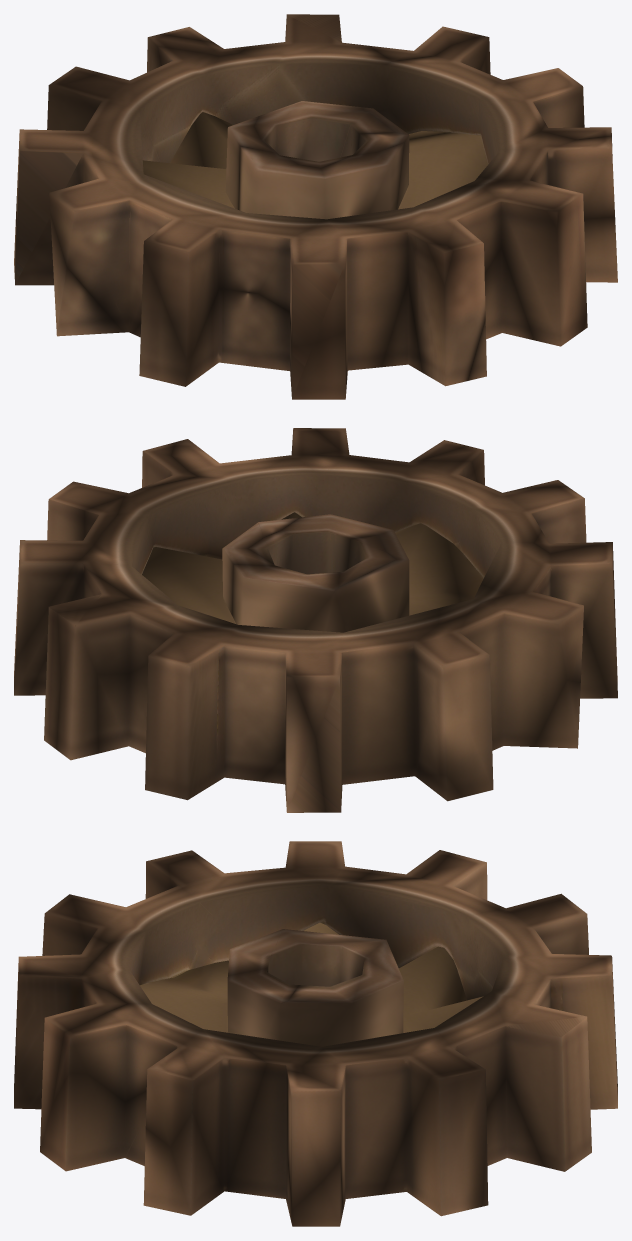
Rendered from Meshy_AI_Rusty_Cogwheel_0831084846_texture.fbx.
3 renders of one model, top to bottom at view 1: azimuth 30°, elevation 25°; view 2: azimuth 150°, elevation 25°; view 3: azimuth 270°, elevation 25°, orthographic.
Parts seen in each view (by area): view 1: mesh_node; view 2: mesh_node; view 3: mesh_node.
Boxes of the visible parts, <box> form: mesh_node: <box>14,14,617,399</box>; mesh_node: <box>14,428,617,812</box>; mesh_node: <box>14,841,617,1226</box>.
Size of the model in its own units: 100 by 24.61 by 100.
Materials: 1 (1 with a texture image).
